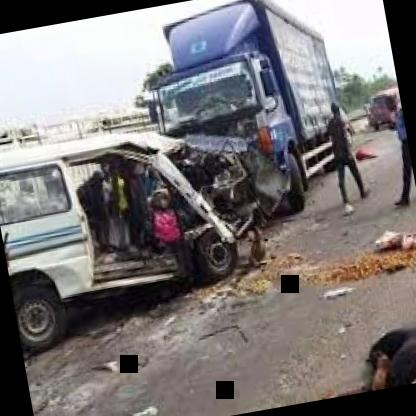accident: (0, 58, 369, 336)
